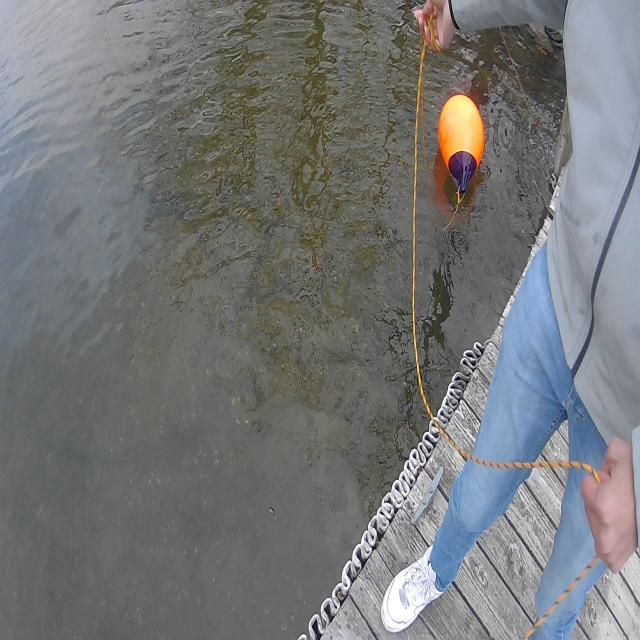Buoy: (435, 90, 486, 190)
